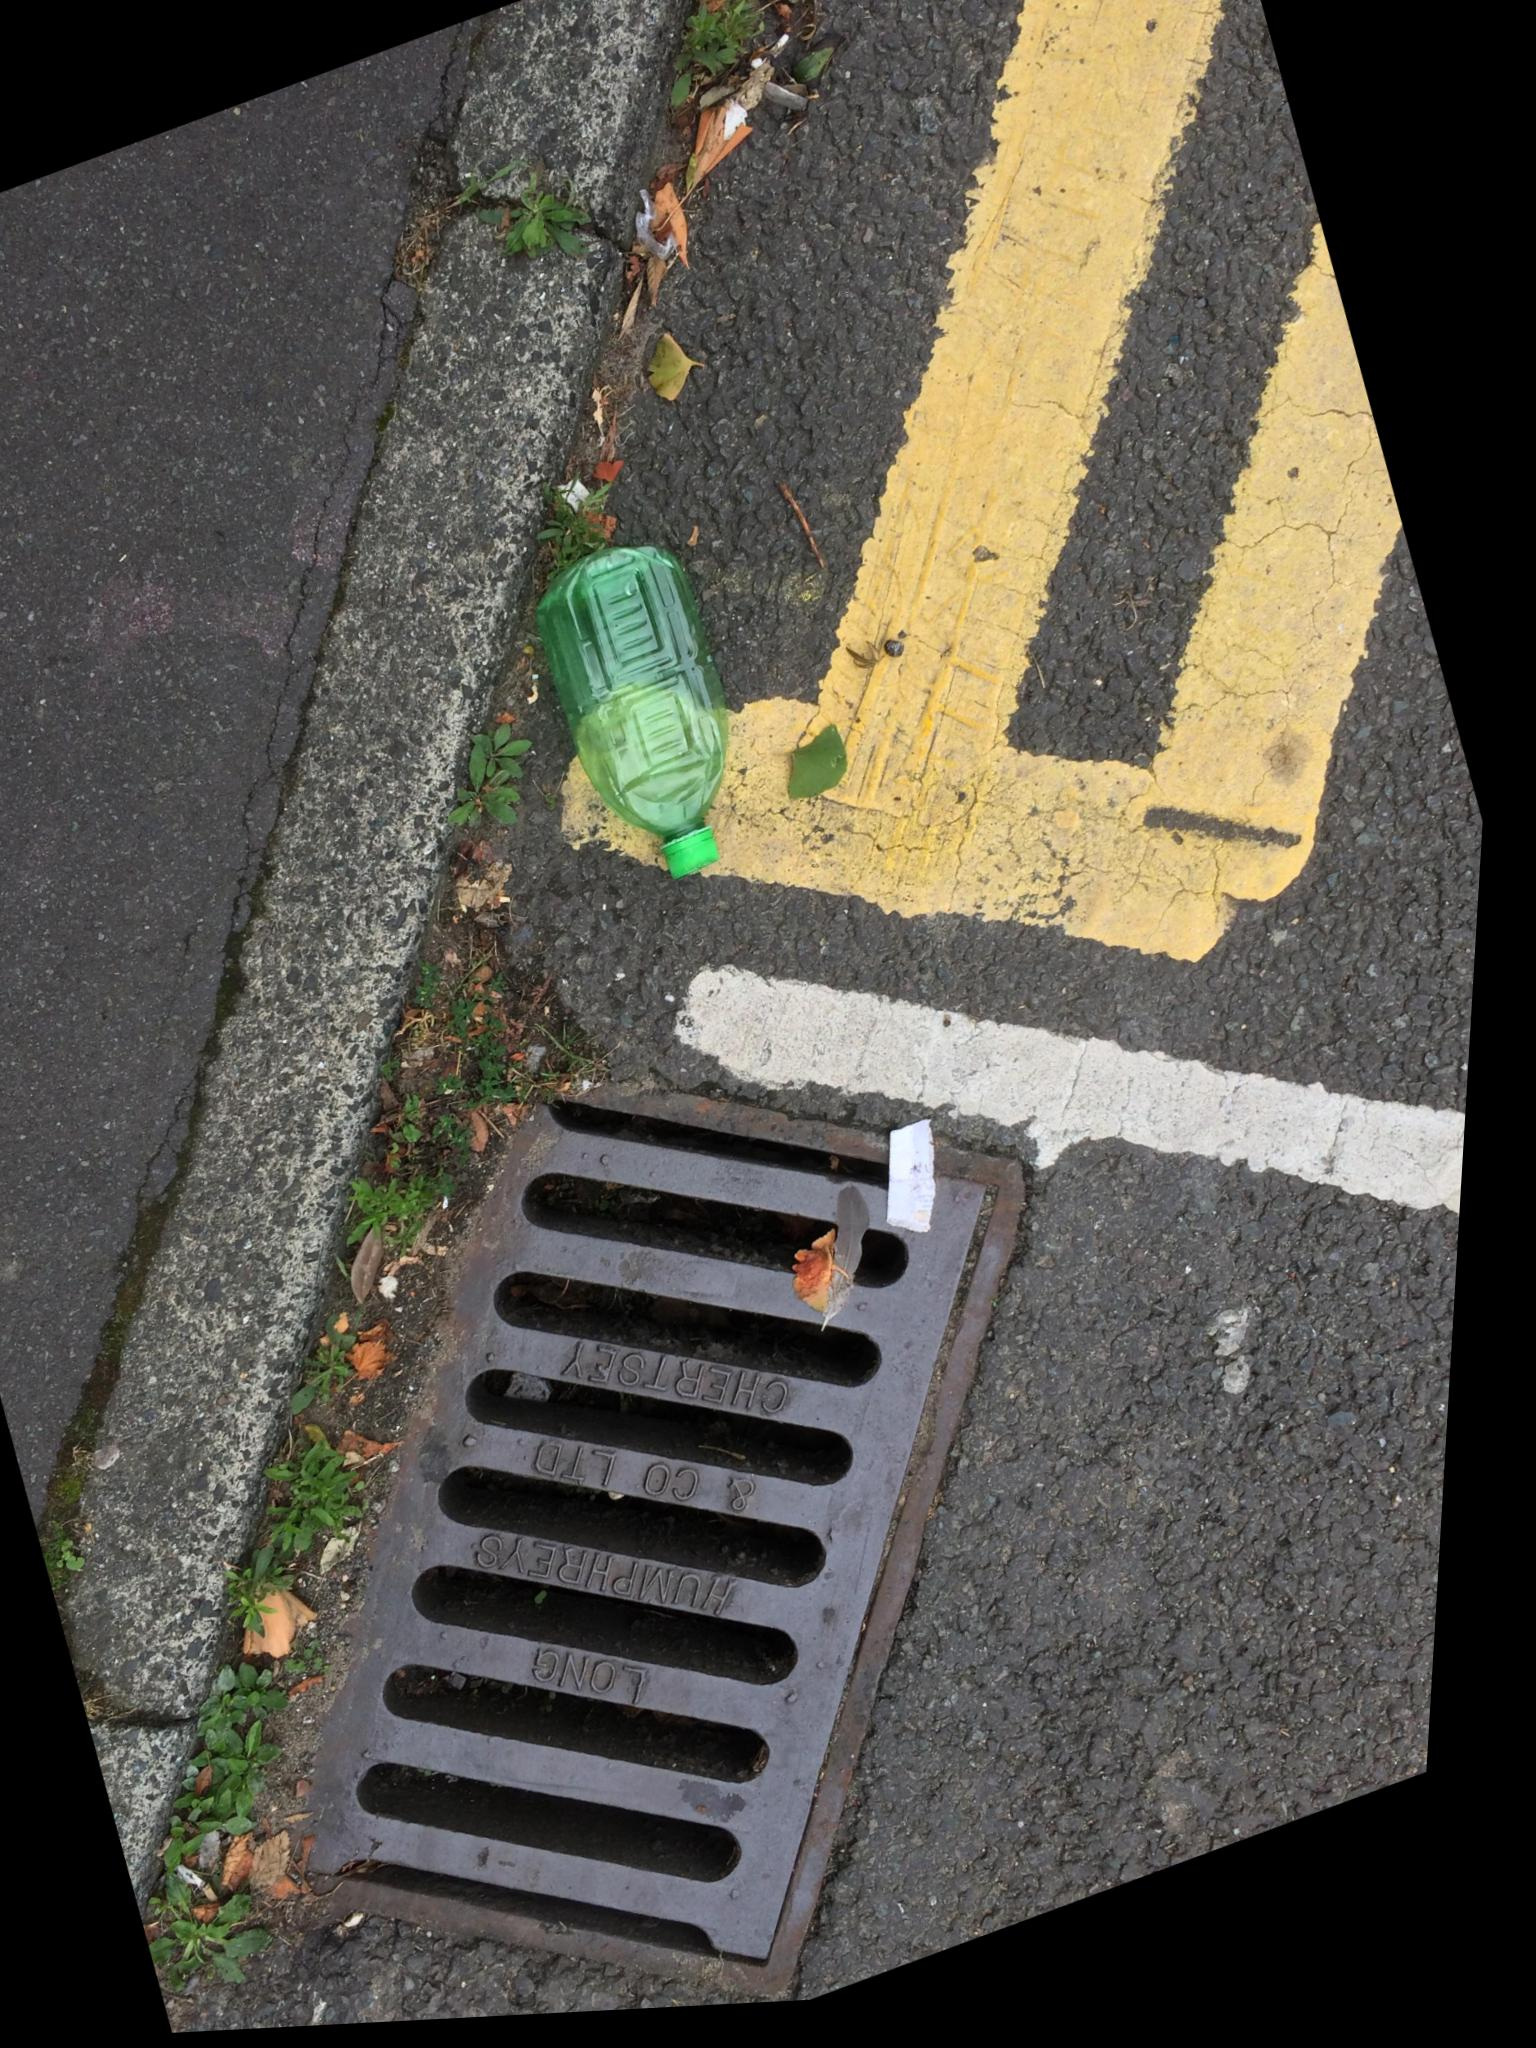plastic: (537, 547, 728, 876)
